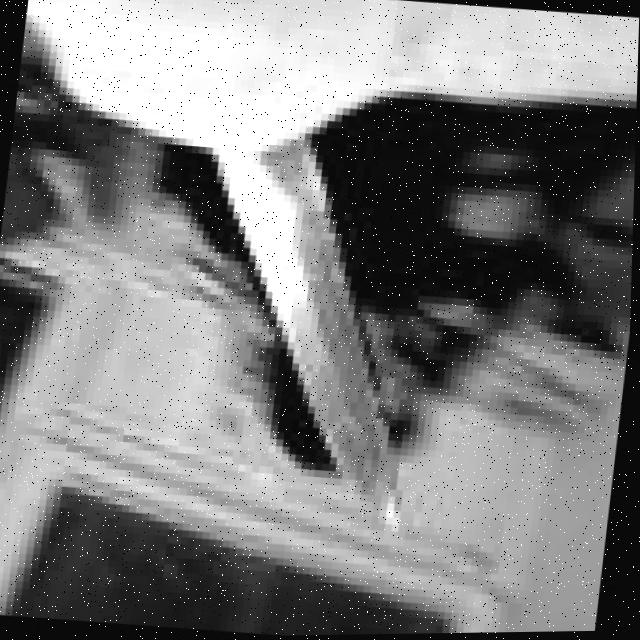knife: (117, 108, 493, 530)
